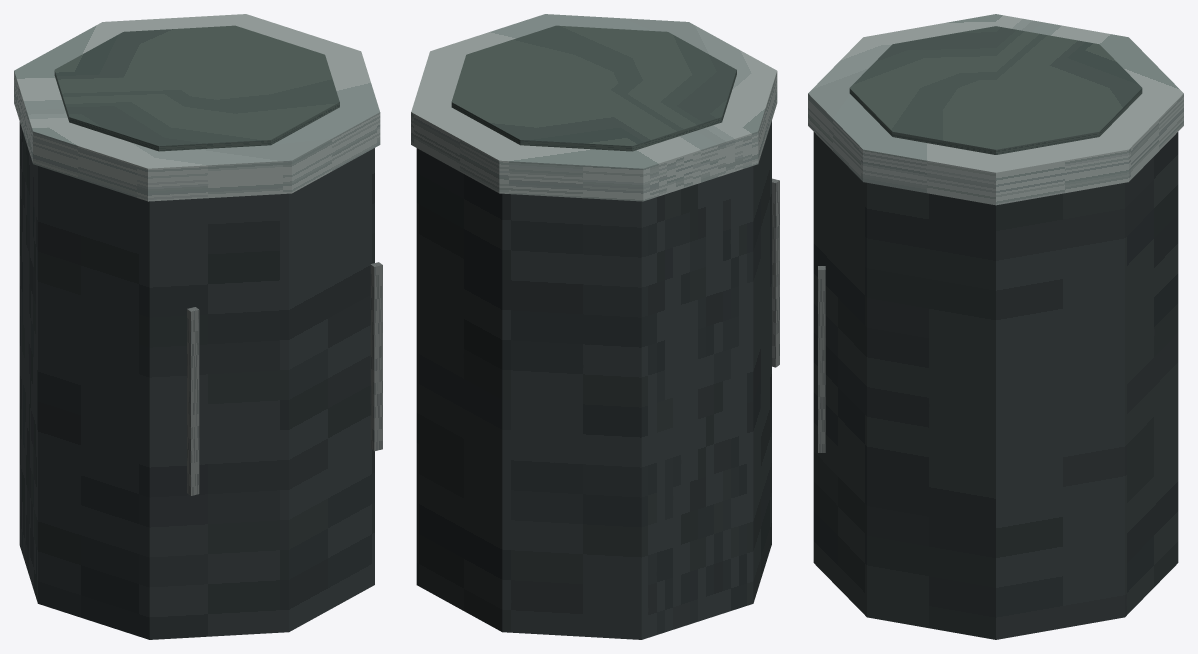
File: cesto_basura.glb
The picture shows the model from 3 angles, left to right: view 1: azimuth 30°, elevation 25°; view 2: azimuth 150°, elevation 25°; view 3: azimuth 270°, elevation 25°; orthographic projection.
Parts seen in each view (by area): view 1: cesto_basura; view 2: cesto_basura; view 3: cesto_basura.
Boxes of the visible parts, x1,y1,x2,y2 form: cesto_basura: (14,14,382,639); cesto_basura: (411,14,779,639); cesto_basura: (808,14,1183,639).
Size of the model in its own units: 0.4145 by 0.5781 by 0.4145.
1 material, 1 textured.
